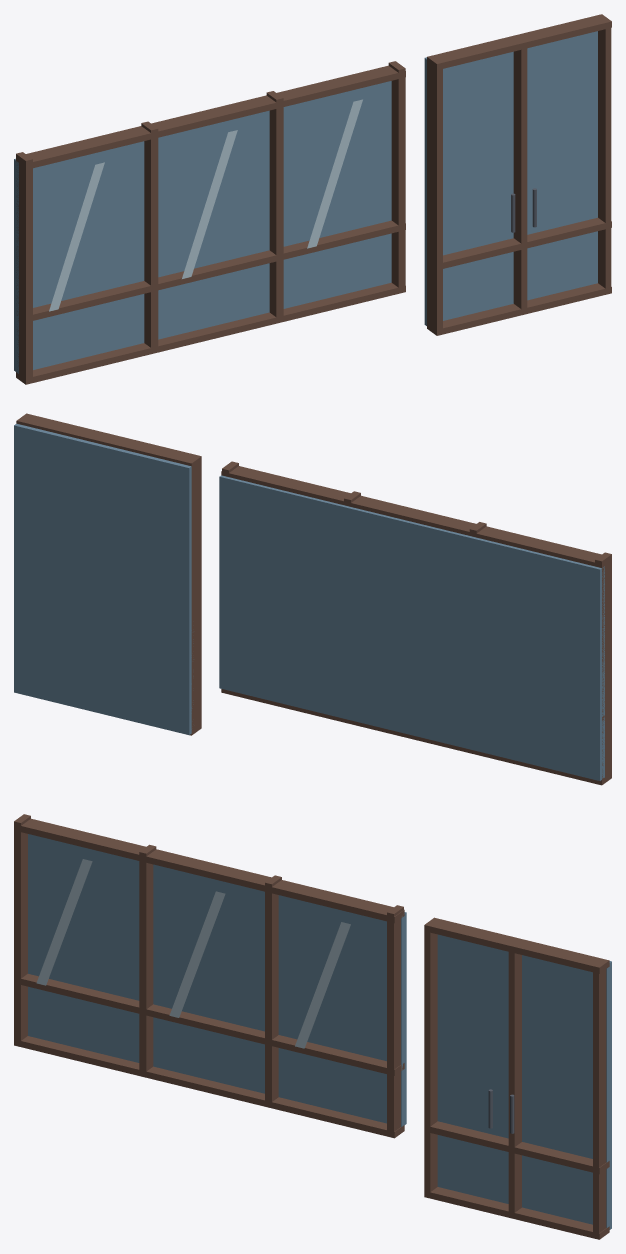
File: SM_Ramen_ShopGlazing.fbx
3 views of the same model, one above another, from view 1: azimuth 30°, elevation 25°; view 2: azimuth 150°, elevation 25°; view 3: azimuth 330°, elevation 25° (orthographic).
Parts seen in each view (by area): view 1: SM_Ramen_ShopGlazing; view 2: SM_Ramen_ShopGlazing; view 3: SM_Ramen_ShopGlazing.
Boxes of the visible parts, x1,y1,x2,y2 form: SM_Ramen_ShopGlazing: (14, 14, 611, 384); SM_Ramen_ShopGlazing: (14, 413, 611, 785); SM_Ramen_ShopGlazing: (14, 814, 611, 1239).
Bounding box in the file's own units: 5.42 × 0.298 × 2.43.
